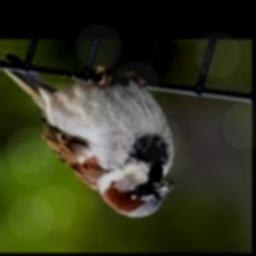Sparrow: (0, 50, 174, 217)
